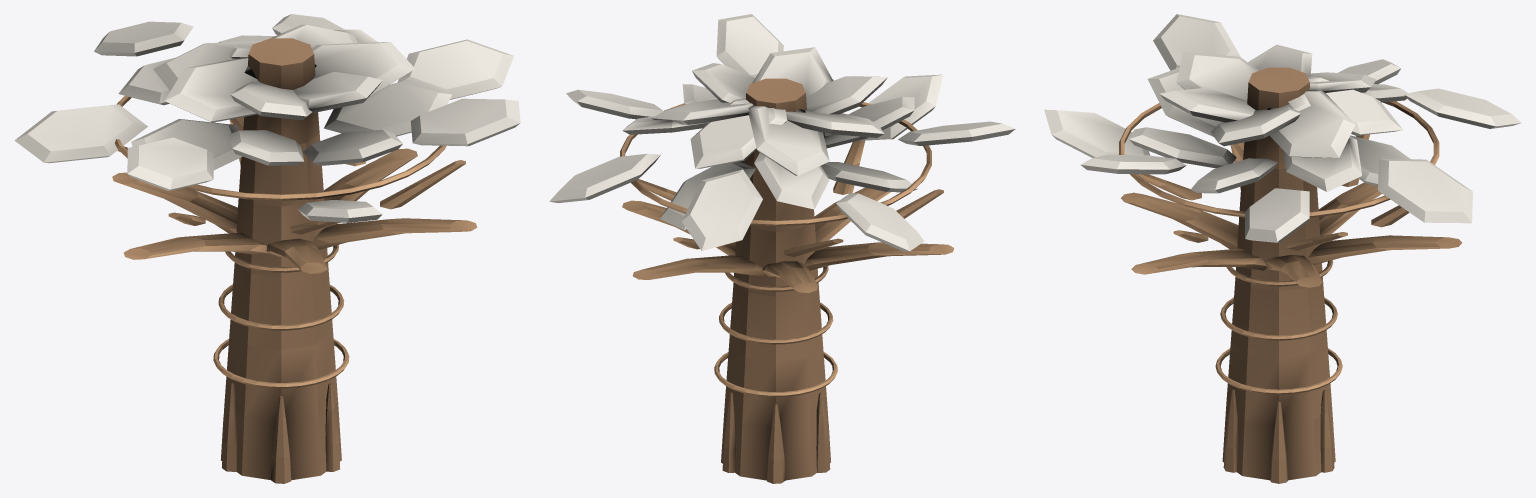
Rendered from synthesis_tree.glb.
The picture shows the model from 3 angles, left to right: view 1: azimuth 30°, elevation 25°; view 2: azimuth 150°, elevation 25°; view 3: azimuth 270°, elevation 25°; orthographic projection. The views are drawn at different scales.
Visible parts, largest first — view 1: synthesis_tree; view 2: synthesis_tree; view 3: synthesis_tree.
Boxes of the visible parts, x1,y1,x2,y2 form: synthesis_tree: (14,14,520,483); synthesis_tree: (549,14,1015,483); synthesis_tree: (1044,14,1521,483).
Bounding box in the file's own units: 19.86 × 17.4 × 19.96.
